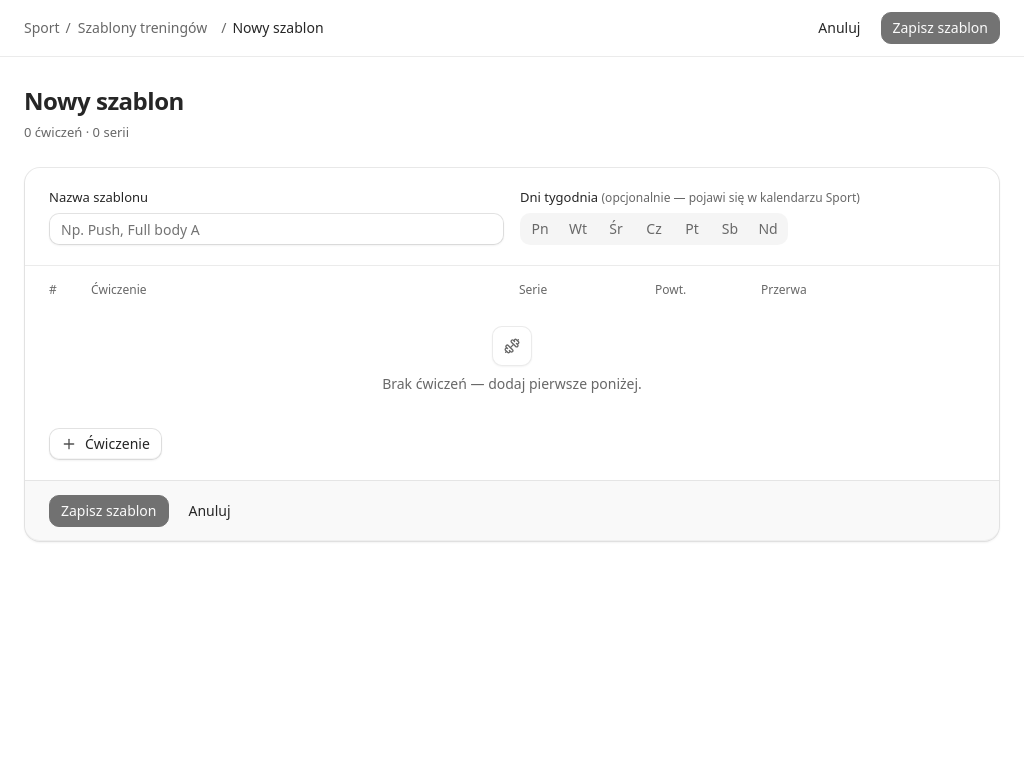
Test: TemplateEditor — nowy szablon › „Zapisz szablon” nieaktywny bez nazwy lub ćwiczeń; klik pokazuje „Podaj nazwę.”
Click the button "Zapisz szablon" in the row of "Szablony treningów" at (940, 28), box x1=880 y1=12 x2=1000 y2=44
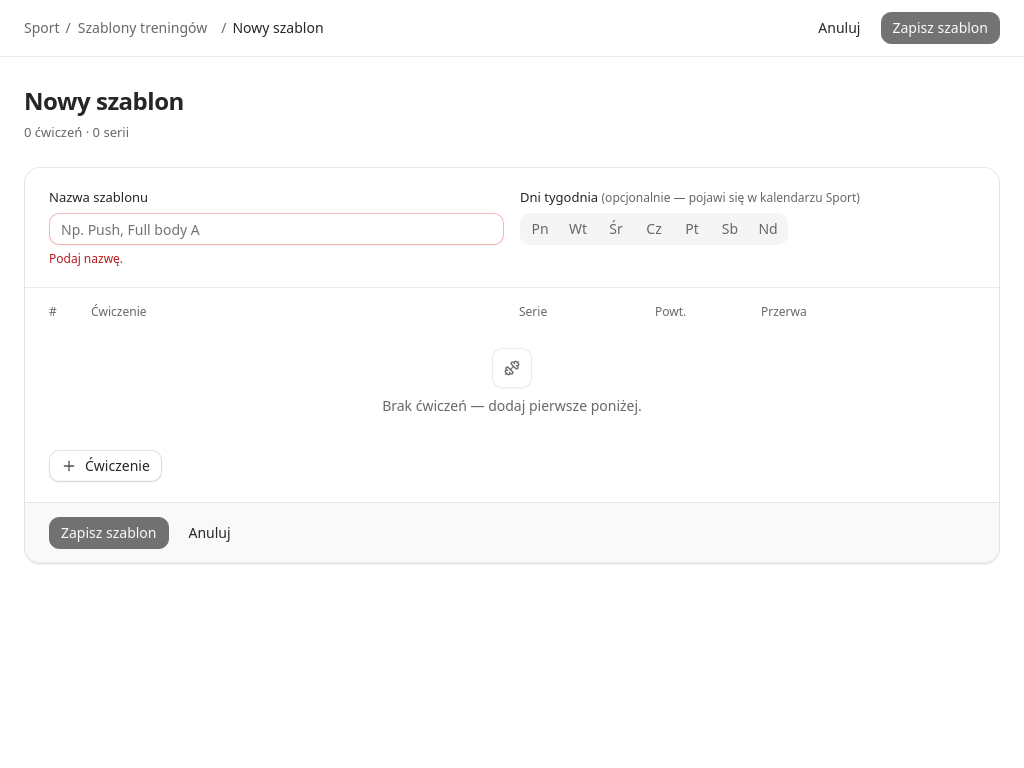
Result: the text "Podaj nazwę." is shown at x1=49 y1=250 x2=123 y2=267
Sama nazwa nie wystarczy
Type "Push" into the field labelled "Nazwa szablonu" at (276, 229), box x1=49 y1=213 x2=504 y2=245
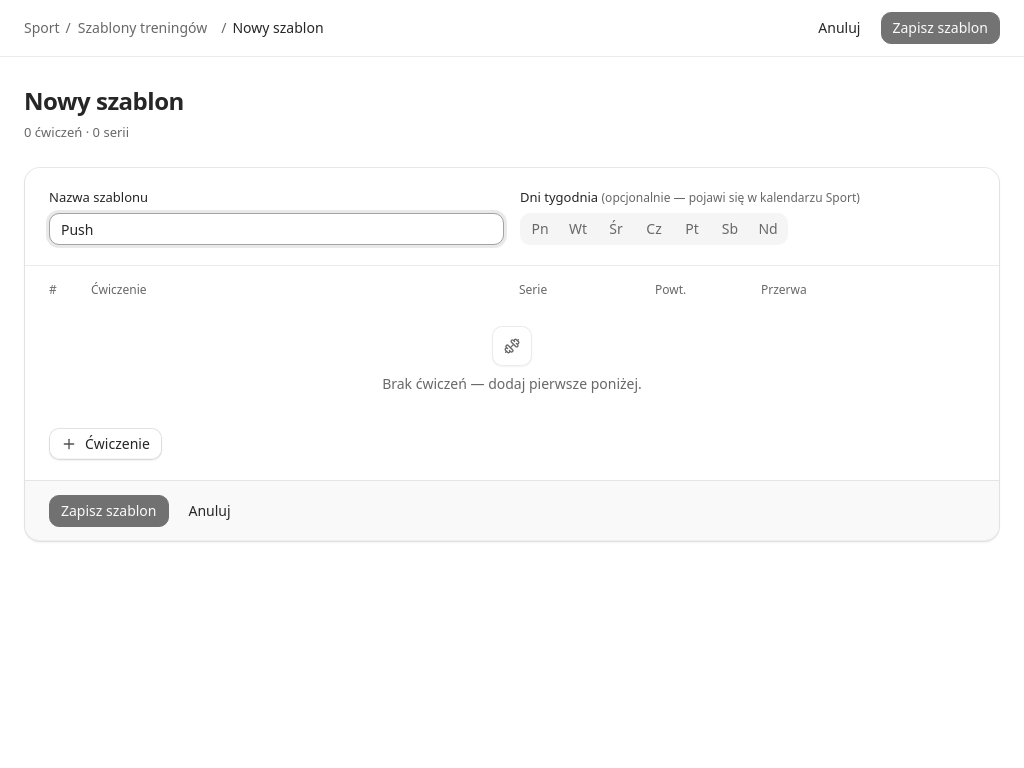
Result: the text "Podaj nazwę." is gone
